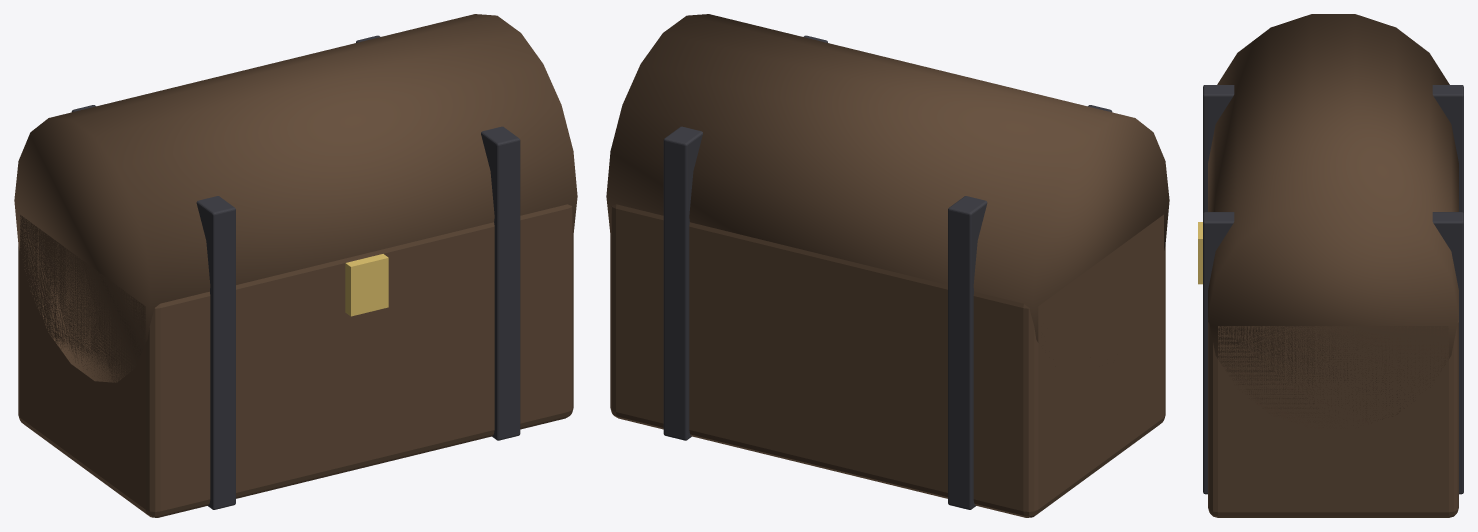
Rendered from crate_trunk.glb.
The picture shows the model from 3 angles, left to right: view 1: azimuth 30°, elevation 25°; view 2: azimuth 150°, elevation 25°; view 3: azimuth 270°, elevation 25°; orthographic projection. The views are drawn at different scales.
Parts seen in each view (by area): view 1: GD_crate_trunk__m0, GD_crate_trunk__m1, GD_crate_trunk__m2; view 2: GD_crate_trunk__m0, GD_crate_trunk__m1; view 3: GD_crate_trunk__m0, GD_crate_trunk__m1, GD_crate_trunk__m2.
Part boxes in pixels (bbox=[...]): GD_crate_trunk__m0: bbox=[14, 14, 577, 517]; GD_crate_trunk__m1: bbox=[71, 35, 520, 509]; GD_crate_trunk__m2: bbox=[345, 254, 388, 316]; GD_crate_trunk__m0: bbox=[606, 14, 1169, 517]; GD_crate_trunk__m1: bbox=[663, 35, 1112, 509]; GD_crate_trunk__m0: bbox=[1208, 14, 1458, 517]; GD_crate_trunk__m1: bbox=[1203, 85, 1463, 494]; GD_crate_trunk__m2: bbox=[1198, 222, 1202, 284].
Bounding box in the file's own units: 0.9 × 0.6962 × 0.53.
